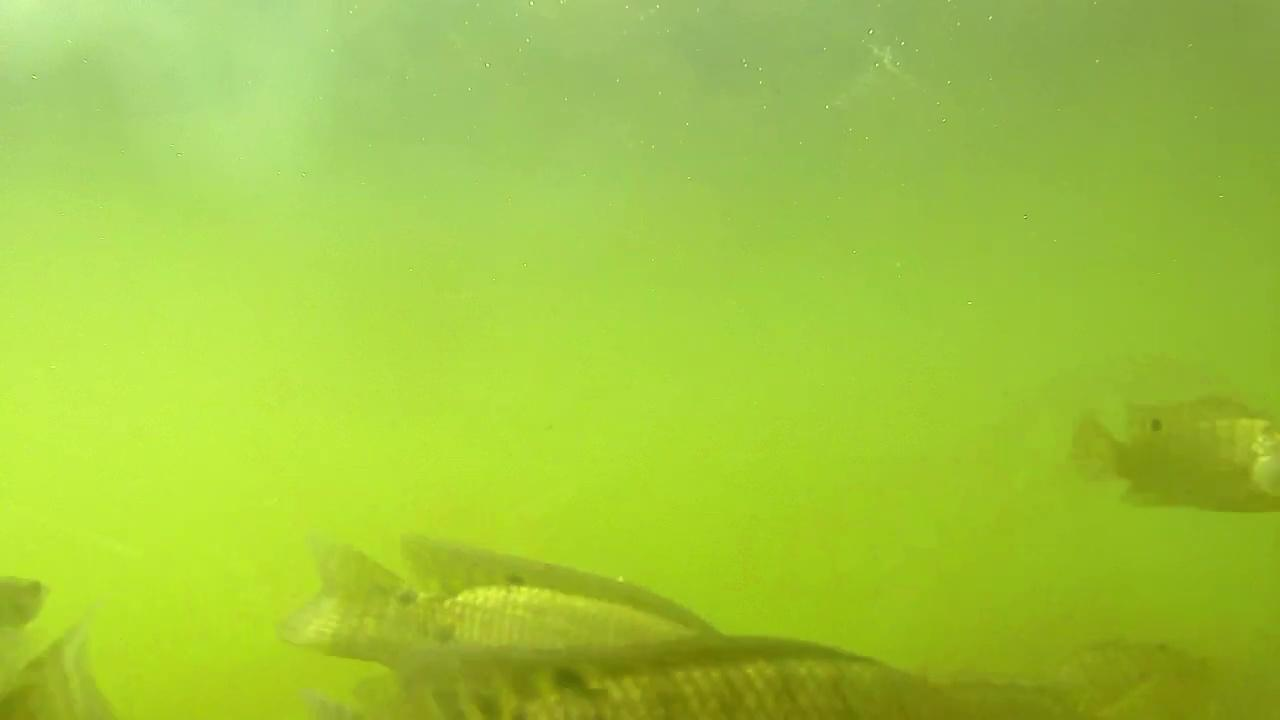Tilapia: (1073, 394, 1280, 530)
